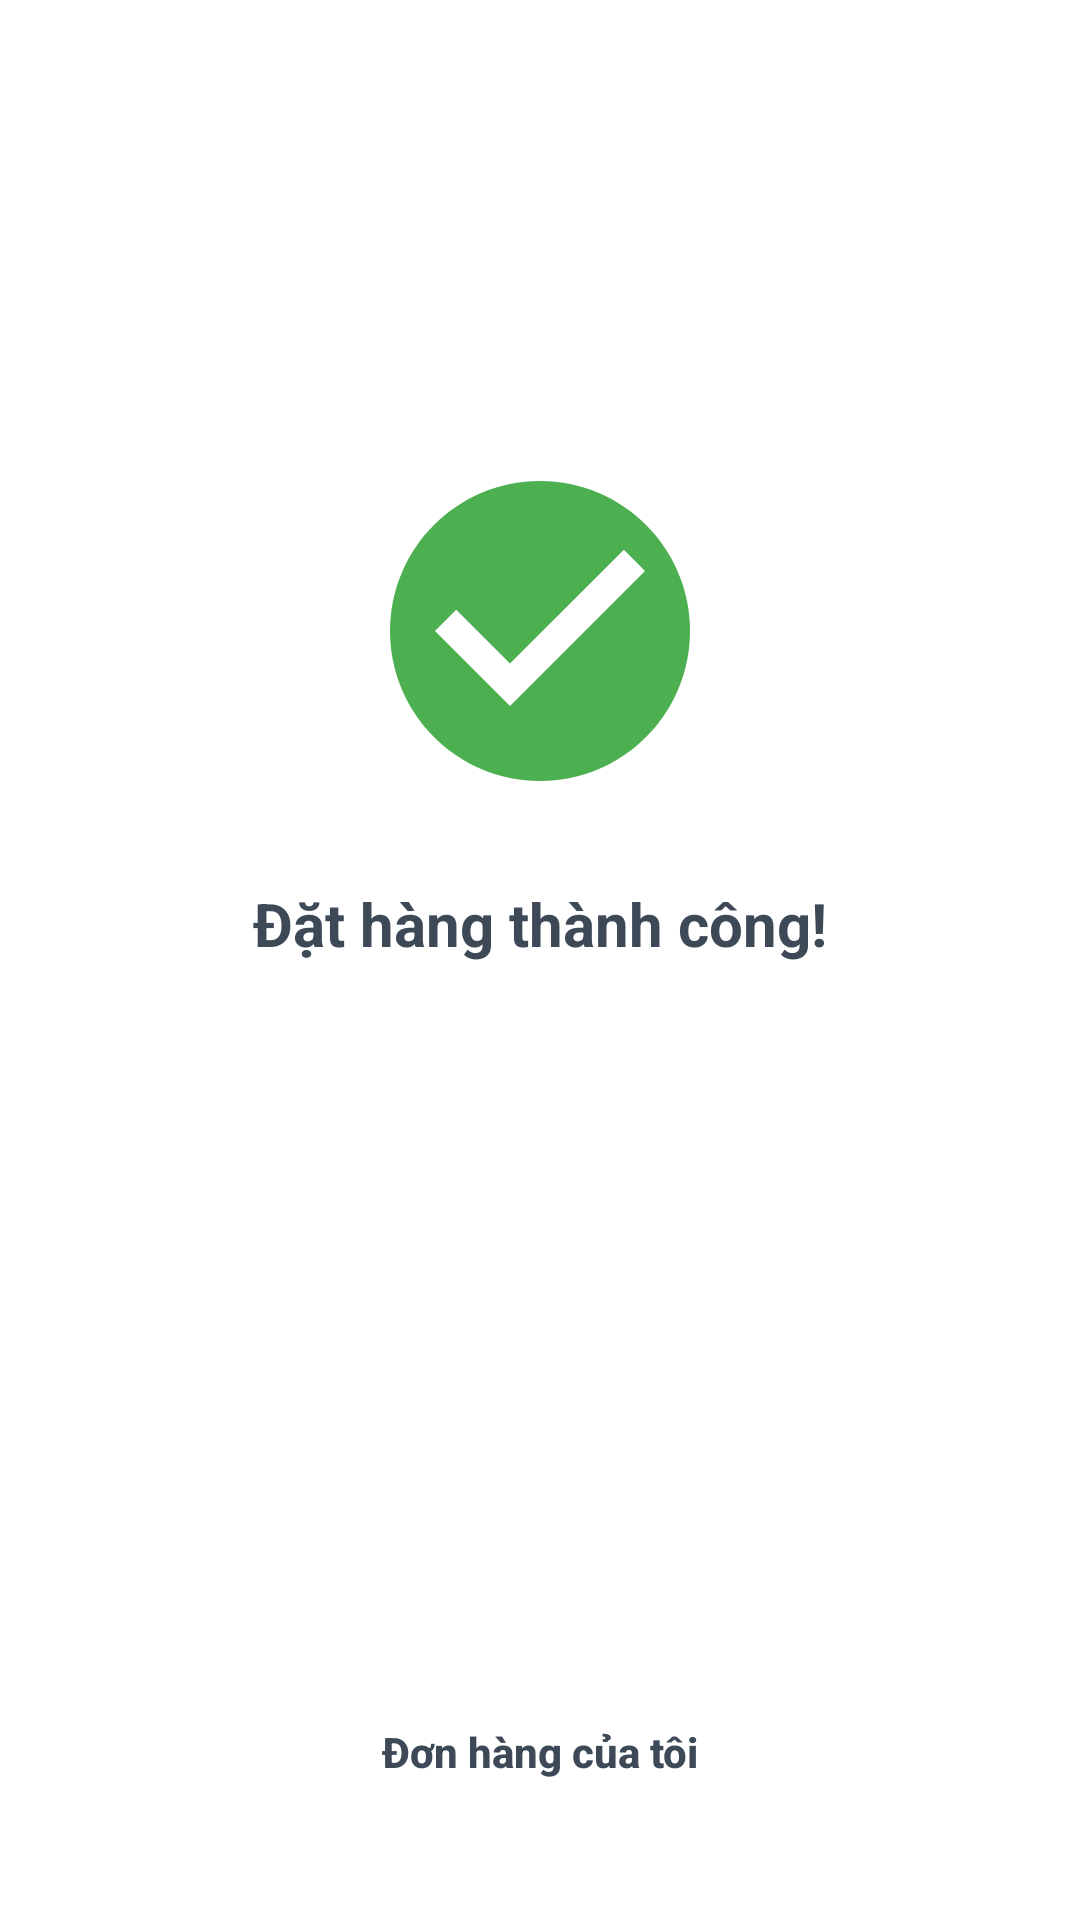

Locate icon controls on the screen. Image size 1080×1920, boxes as (x1, y1, x2, y2).
check circle: (390, 481, 690, 781)
